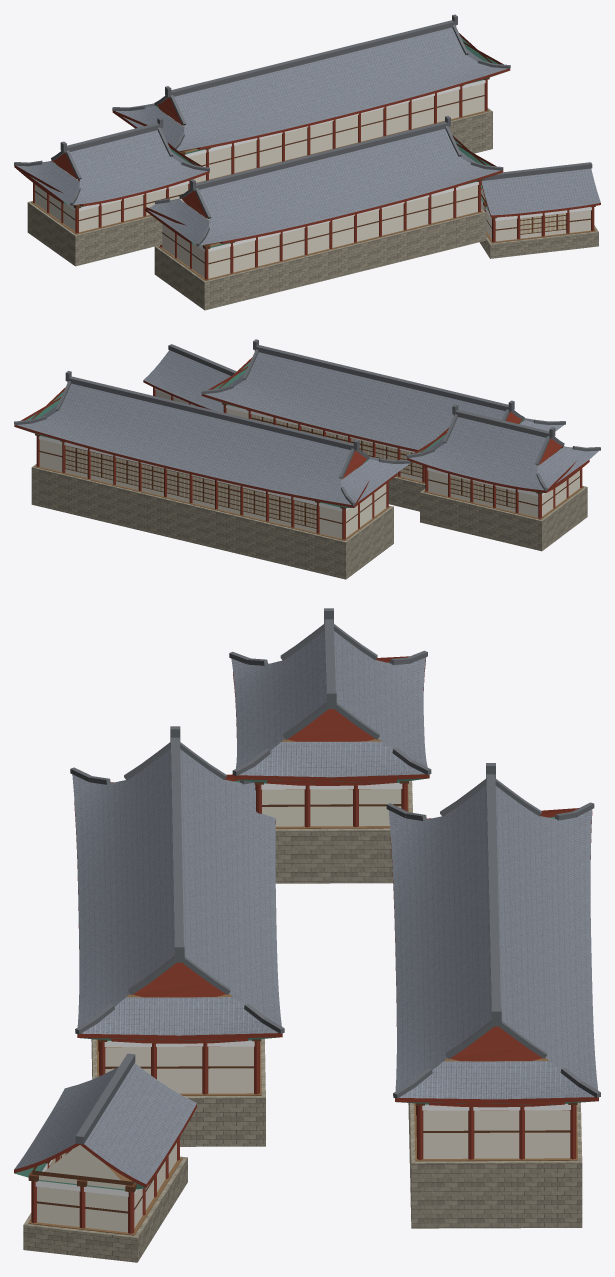
File: chunhyang_themepark.glb
3 views of the same model, one above another, from view 1: azimuth 30°, elevation 25°; view 2: azimuth 150°, elevation 25°; view 3: azimuth 270°, elevation 25° (orthographic). The views are drawn at different scales.
Parts seen in each view (by area): view 1: chunhyang_themepark; view 2: chunhyang_themepark; view 3: chunhyang_themepark.
Boxes of the visible parts, x1,y1,x2,y2 form: chunhyang_themepark: (14,14,600,310); chunhyang_themepark: (14,339,600,579); chunhyang_themepark: (14,608,600,1262).
Size of the model in its own units: 59.36 by 17.23 by 35.36.
Materials: 4 (3 with a texture image).
